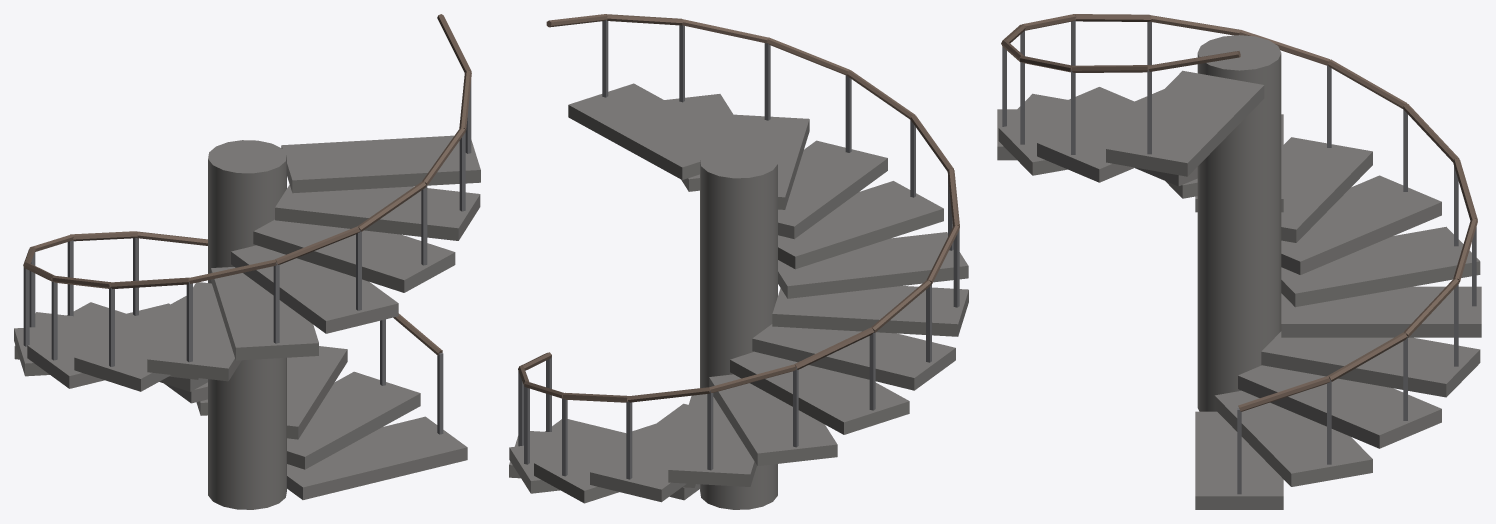
File: hub_stair.gltf
3 views of the same model, side by side, from view 1: azimuth 30°, elevation 25°; view 2: azimuth 150°, elevation 25°; view 3: azimuth 270°, elevation 25° (orthographic). The views are drawn at different scales.
Parts seen in each view (by area): view 1: Body; view 2: Body; view 3: Body.
Boxes of the visible parts, x1,y1,x2,y2 form: Body: [14, 14, 480, 509]; Body: [509, 14, 968, 509]; Body: [997, 14, 1481, 509].
Size of the model in its own units: 5.2 by 5.4 by 5.2.
